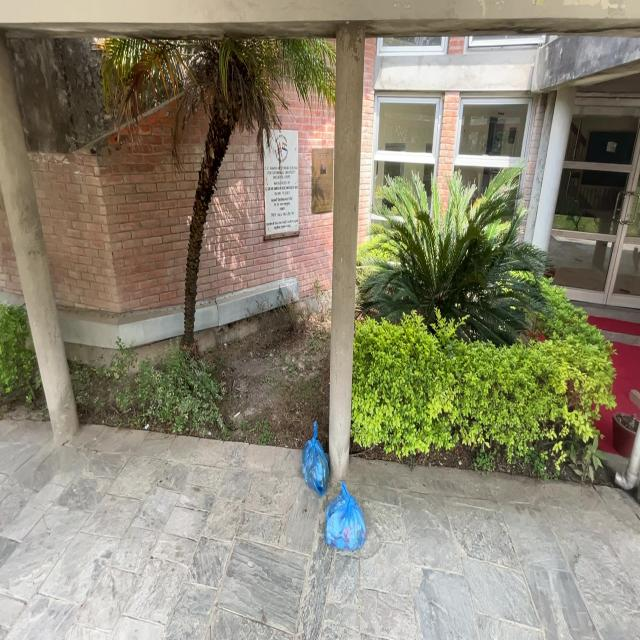garbage: (328, 482, 371, 562), (296, 422, 334, 494)
